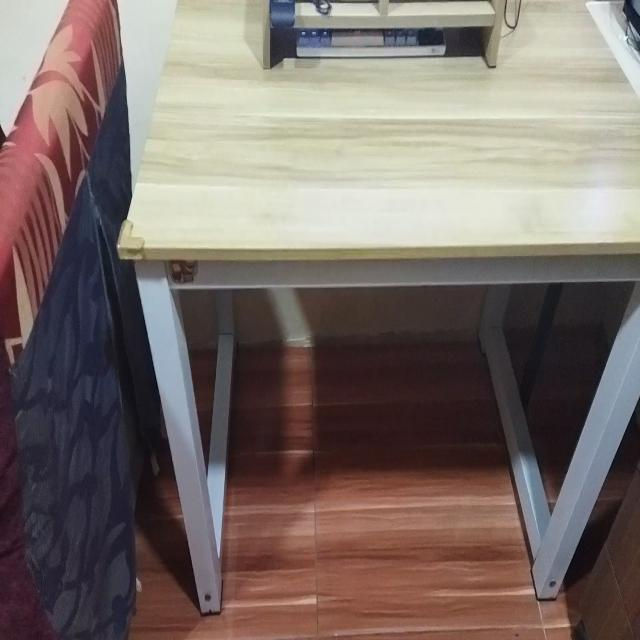table: (115, 3, 640, 618)
